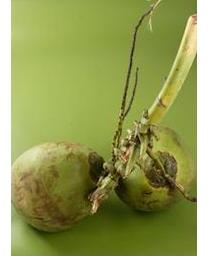coconut: (12, 140, 105, 234), (115, 127, 193, 212)
